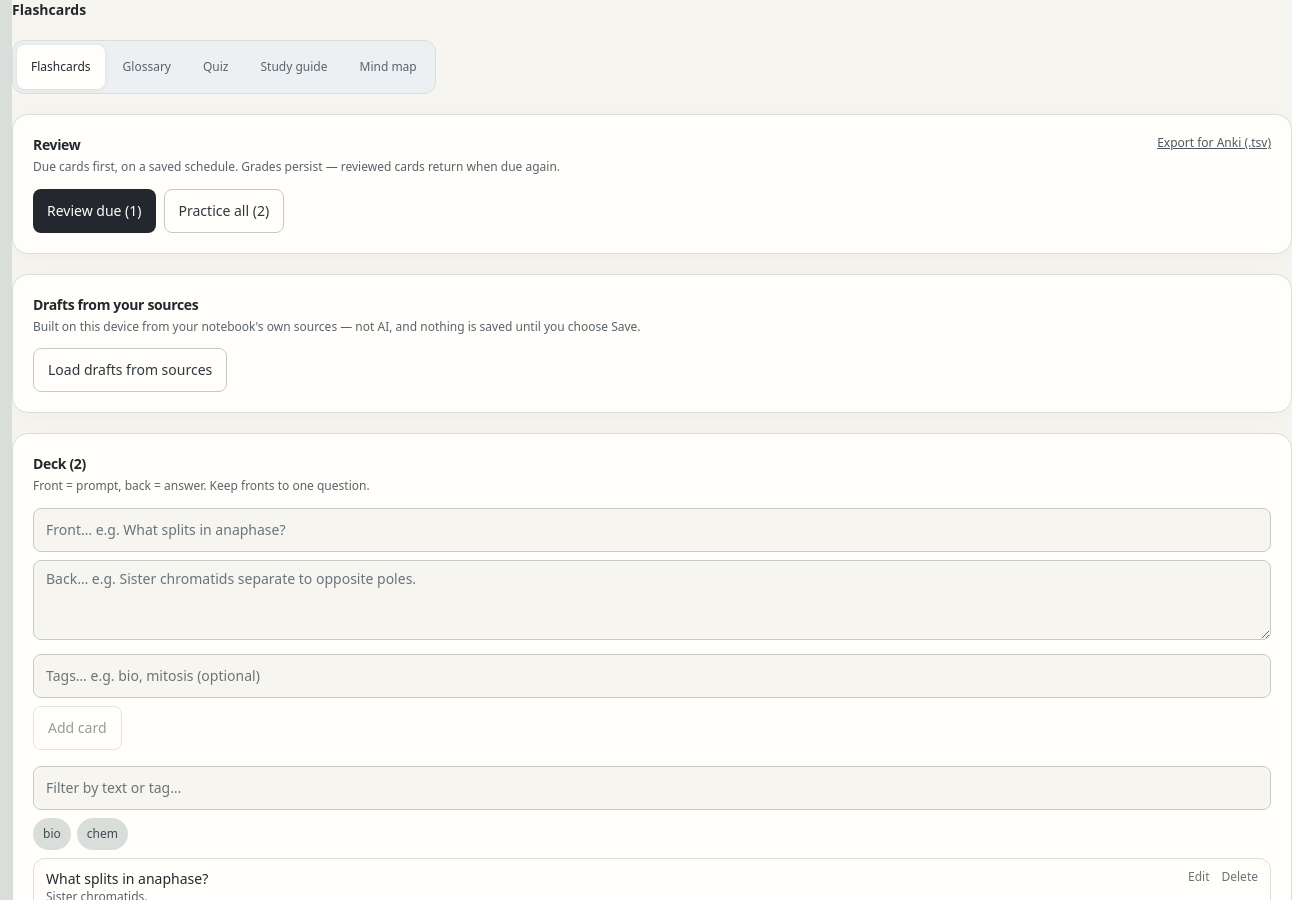
Test: StudyPanel flashcards v2 › shows a delete error and keeps the card
Check: the text "What splits in anaphase?" is shown, box [46,868,208,888]
Click the button "Delete" at (1240, 876), box [1222,868,1258,884]
(page scrolled)
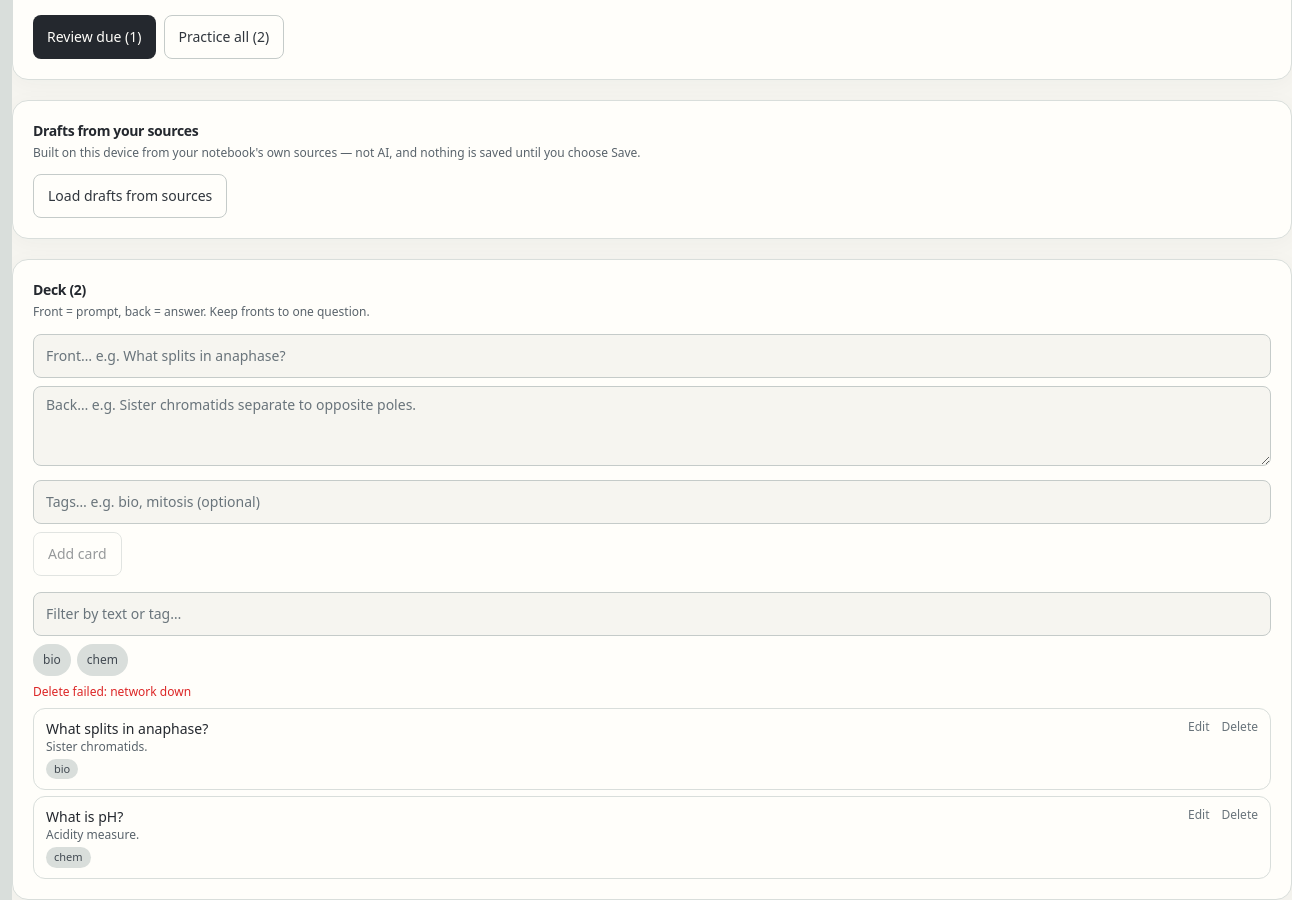
Check: the text "What splits in anaphase?" is shown, box [46,718,208,738]
Check: the message "Delete failed: network down" is shown, box [33,682,191,700]
